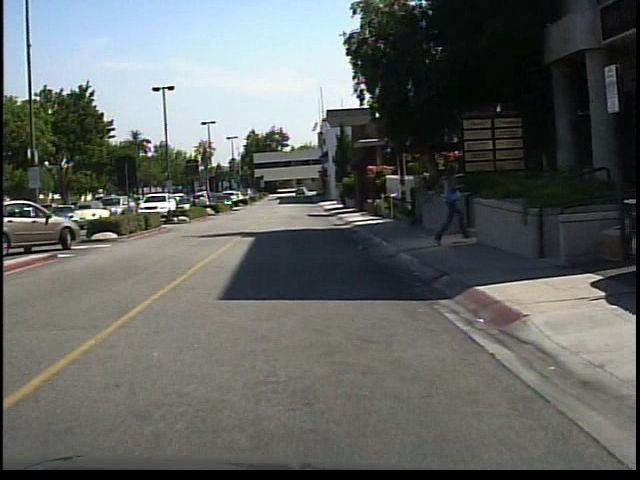person: (434, 156, 467, 250)
